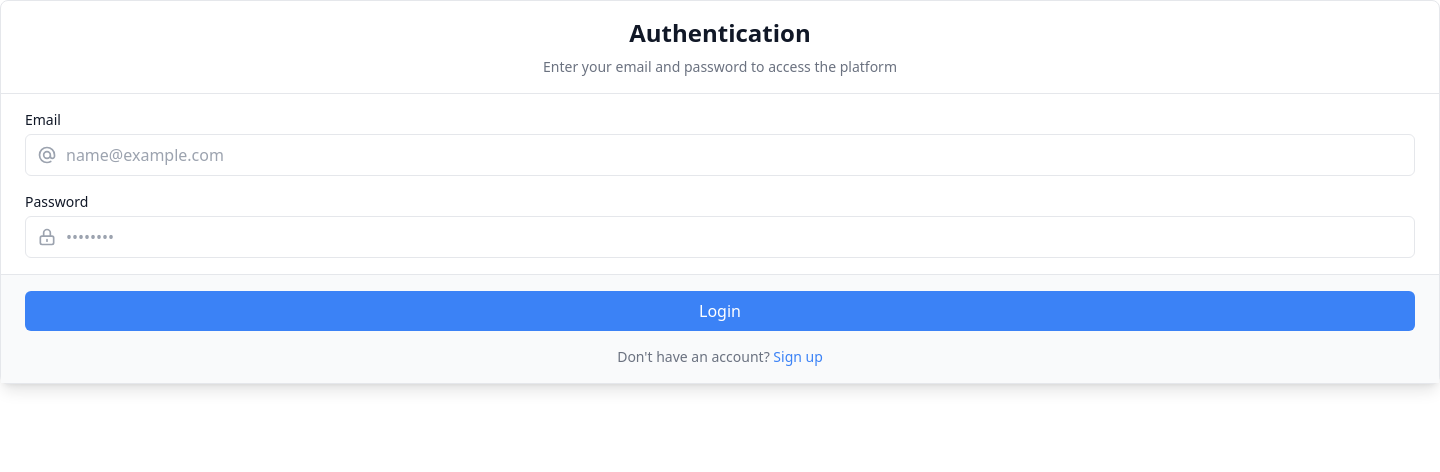
Scenario: LoginPage › Form Submission - Error Cases › should display error when API returns success: false
This screenshot has width=1440, height=472.
Type "test@example.com" into the field labelled "Email" at (720, 155), box [25, 134, 1415, 176]
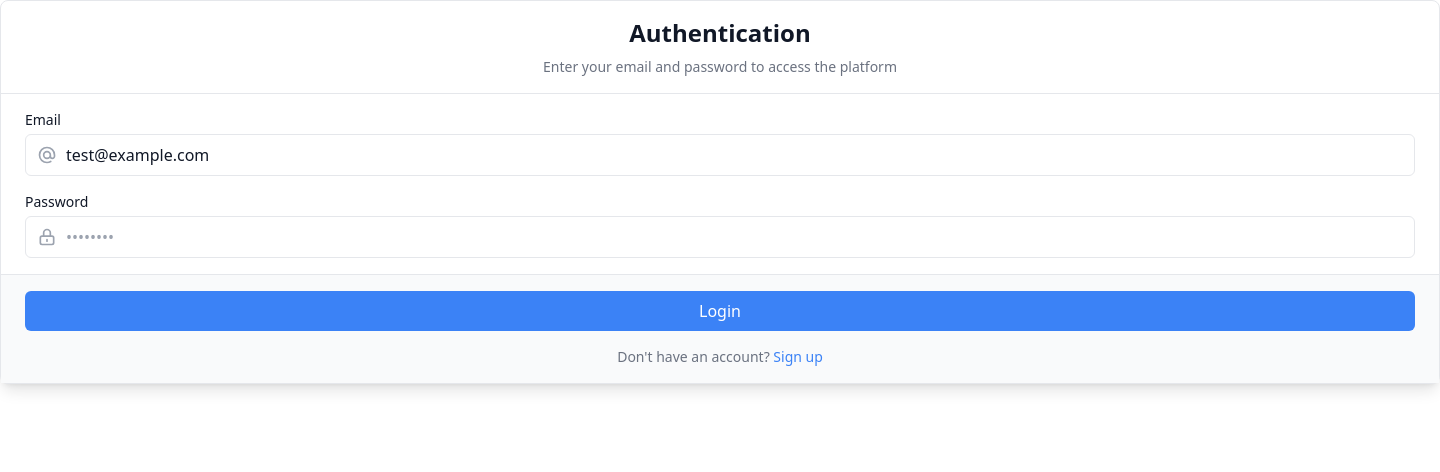
Type "password123" into the password field labelled "Password" at (720, 237), box [25, 216, 1415, 258]
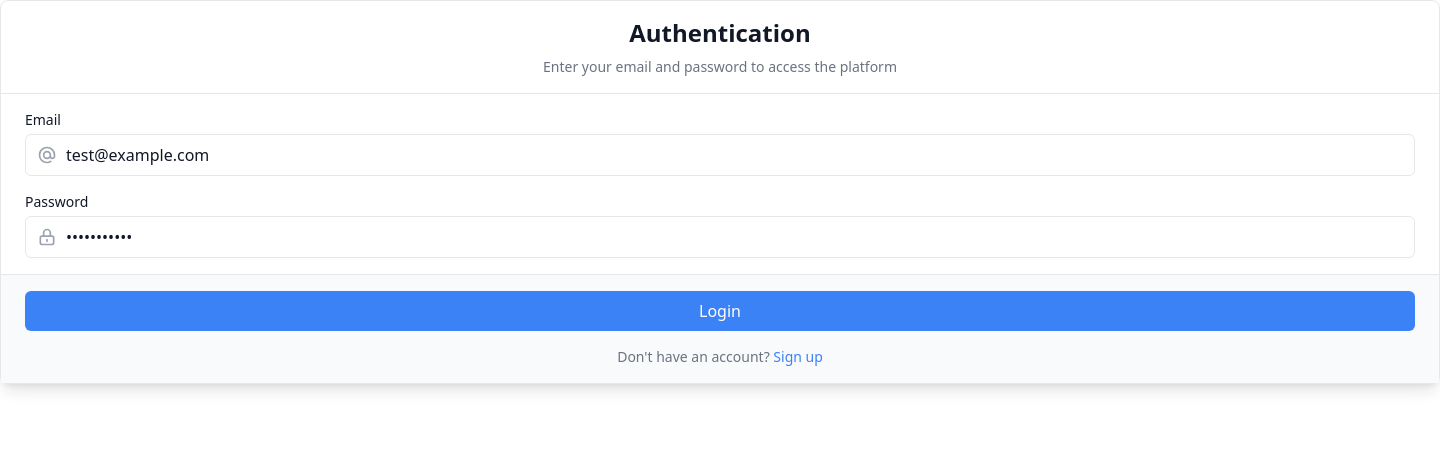
Submit the form labelled "Email Password Login Don't have an account? Sign up"
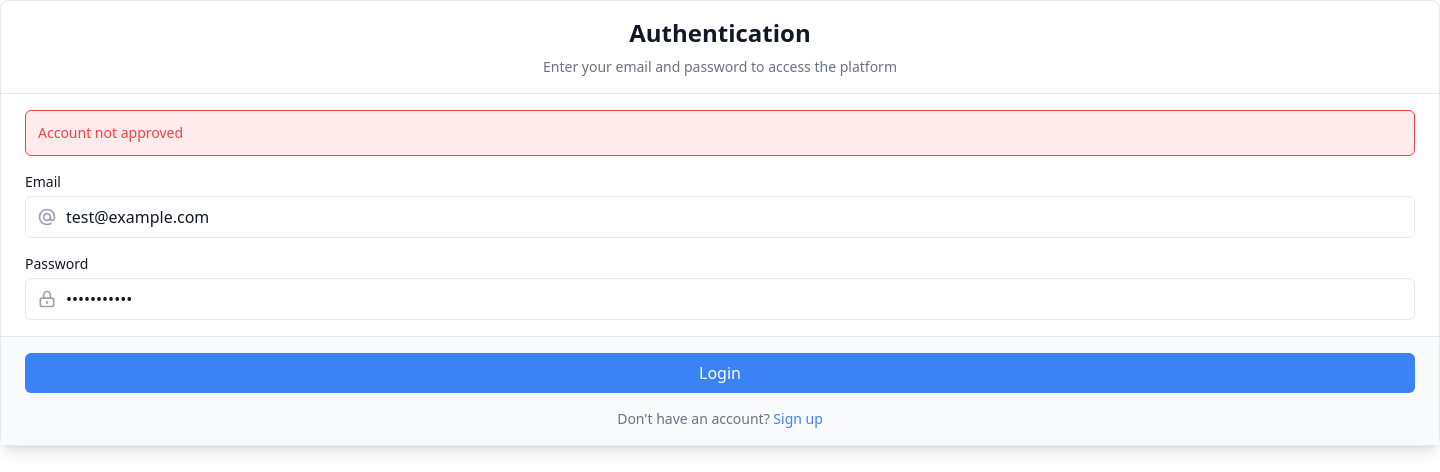
Now the text "Account not approved" is shown, box [25, 110, 1415, 156]
